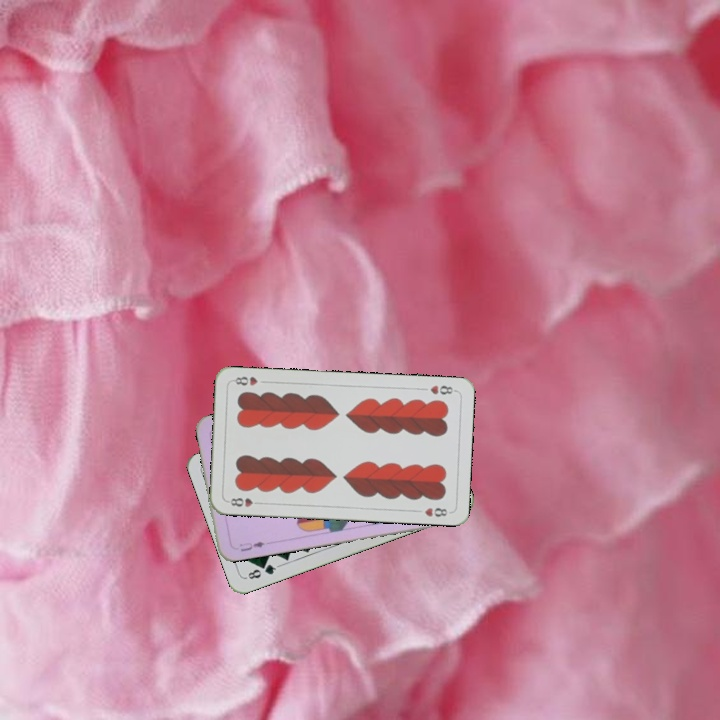EU: (236, 537, 267, 554)
G8: (242, 560, 281, 582)
H8: (224, 494, 264, 510), (426, 381, 458, 397)
